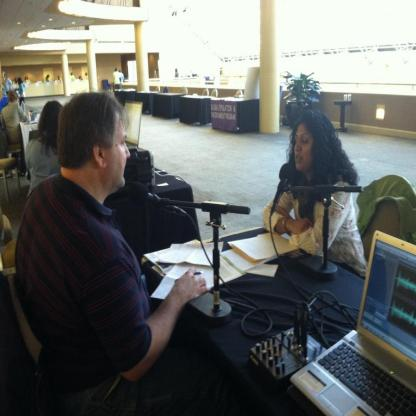board: (295, 230, 413, 416), (125, 101, 142, 150)
